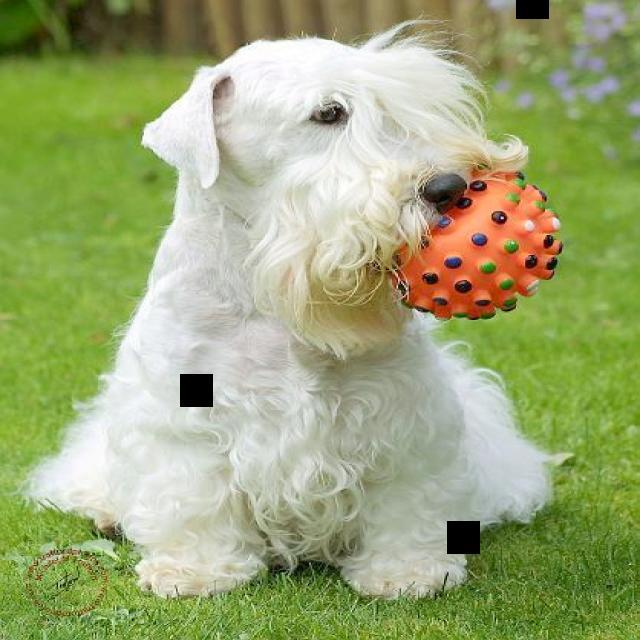adult_dog: (19, 22, 568, 599)
